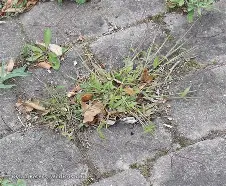weed: (30, 48, 215, 134)
